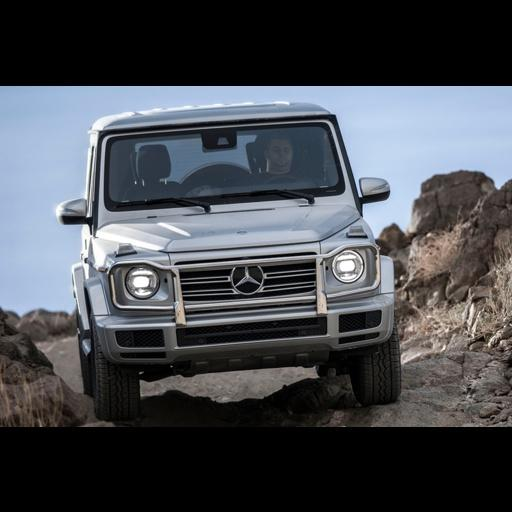suv: (56, 102, 400, 419)
